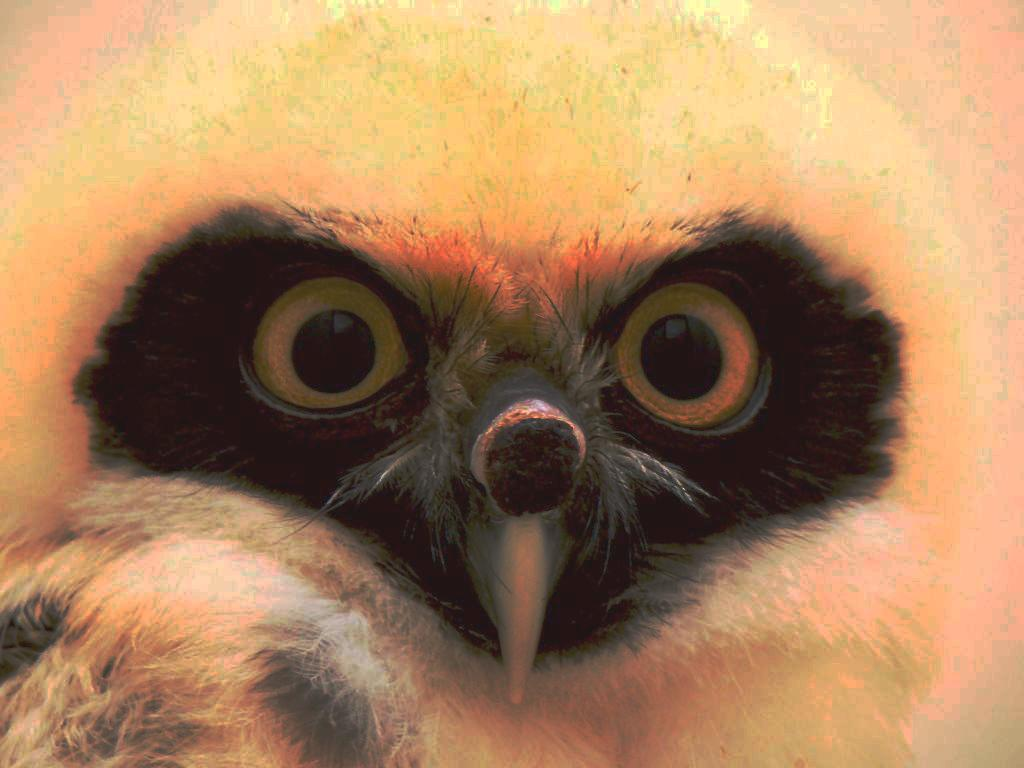Owl: (0, 0, 1023, 765)
